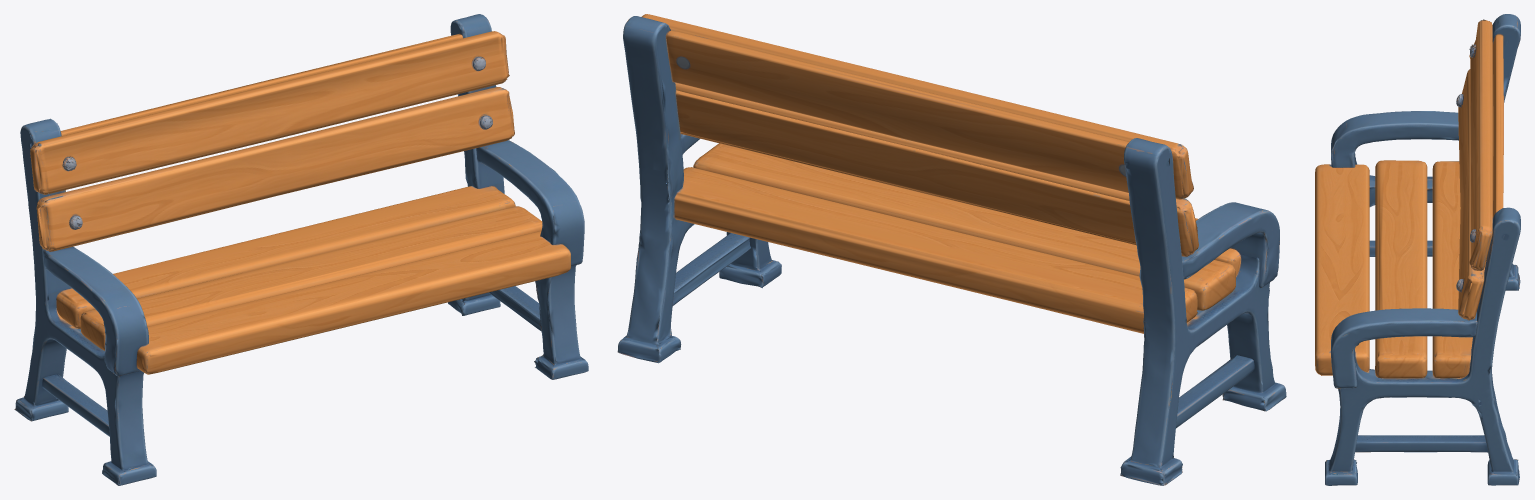
Rendered from Meshy_AI_Sunny_Park_Bench_1022072002_texture.fbx.
3 views of the same model, side by side, from view 1: azimuth 30°, elevation 25°; view 2: azimuth 150°, elevation 25°; view 3: azimuth 270°, elevation 25° (orthographic). The views are drawn at different scales.
Parts seen in each view (by area): view 1: Mesh_0; view 2: Mesh_0; view 3: Mesh_0.
Part boxes in pixels (bbox=[...]): Mesh_0: bbox=[14, 14, 588, 485]; Mesh_0: bbox=[617, 14, 1286, 485]; Mesh_0: bbox=[1315, 14, 1520, 485].
Bounding box in the file's own units: 94.92 × 54.88 × 38.77.
1 material, 1 textured.
